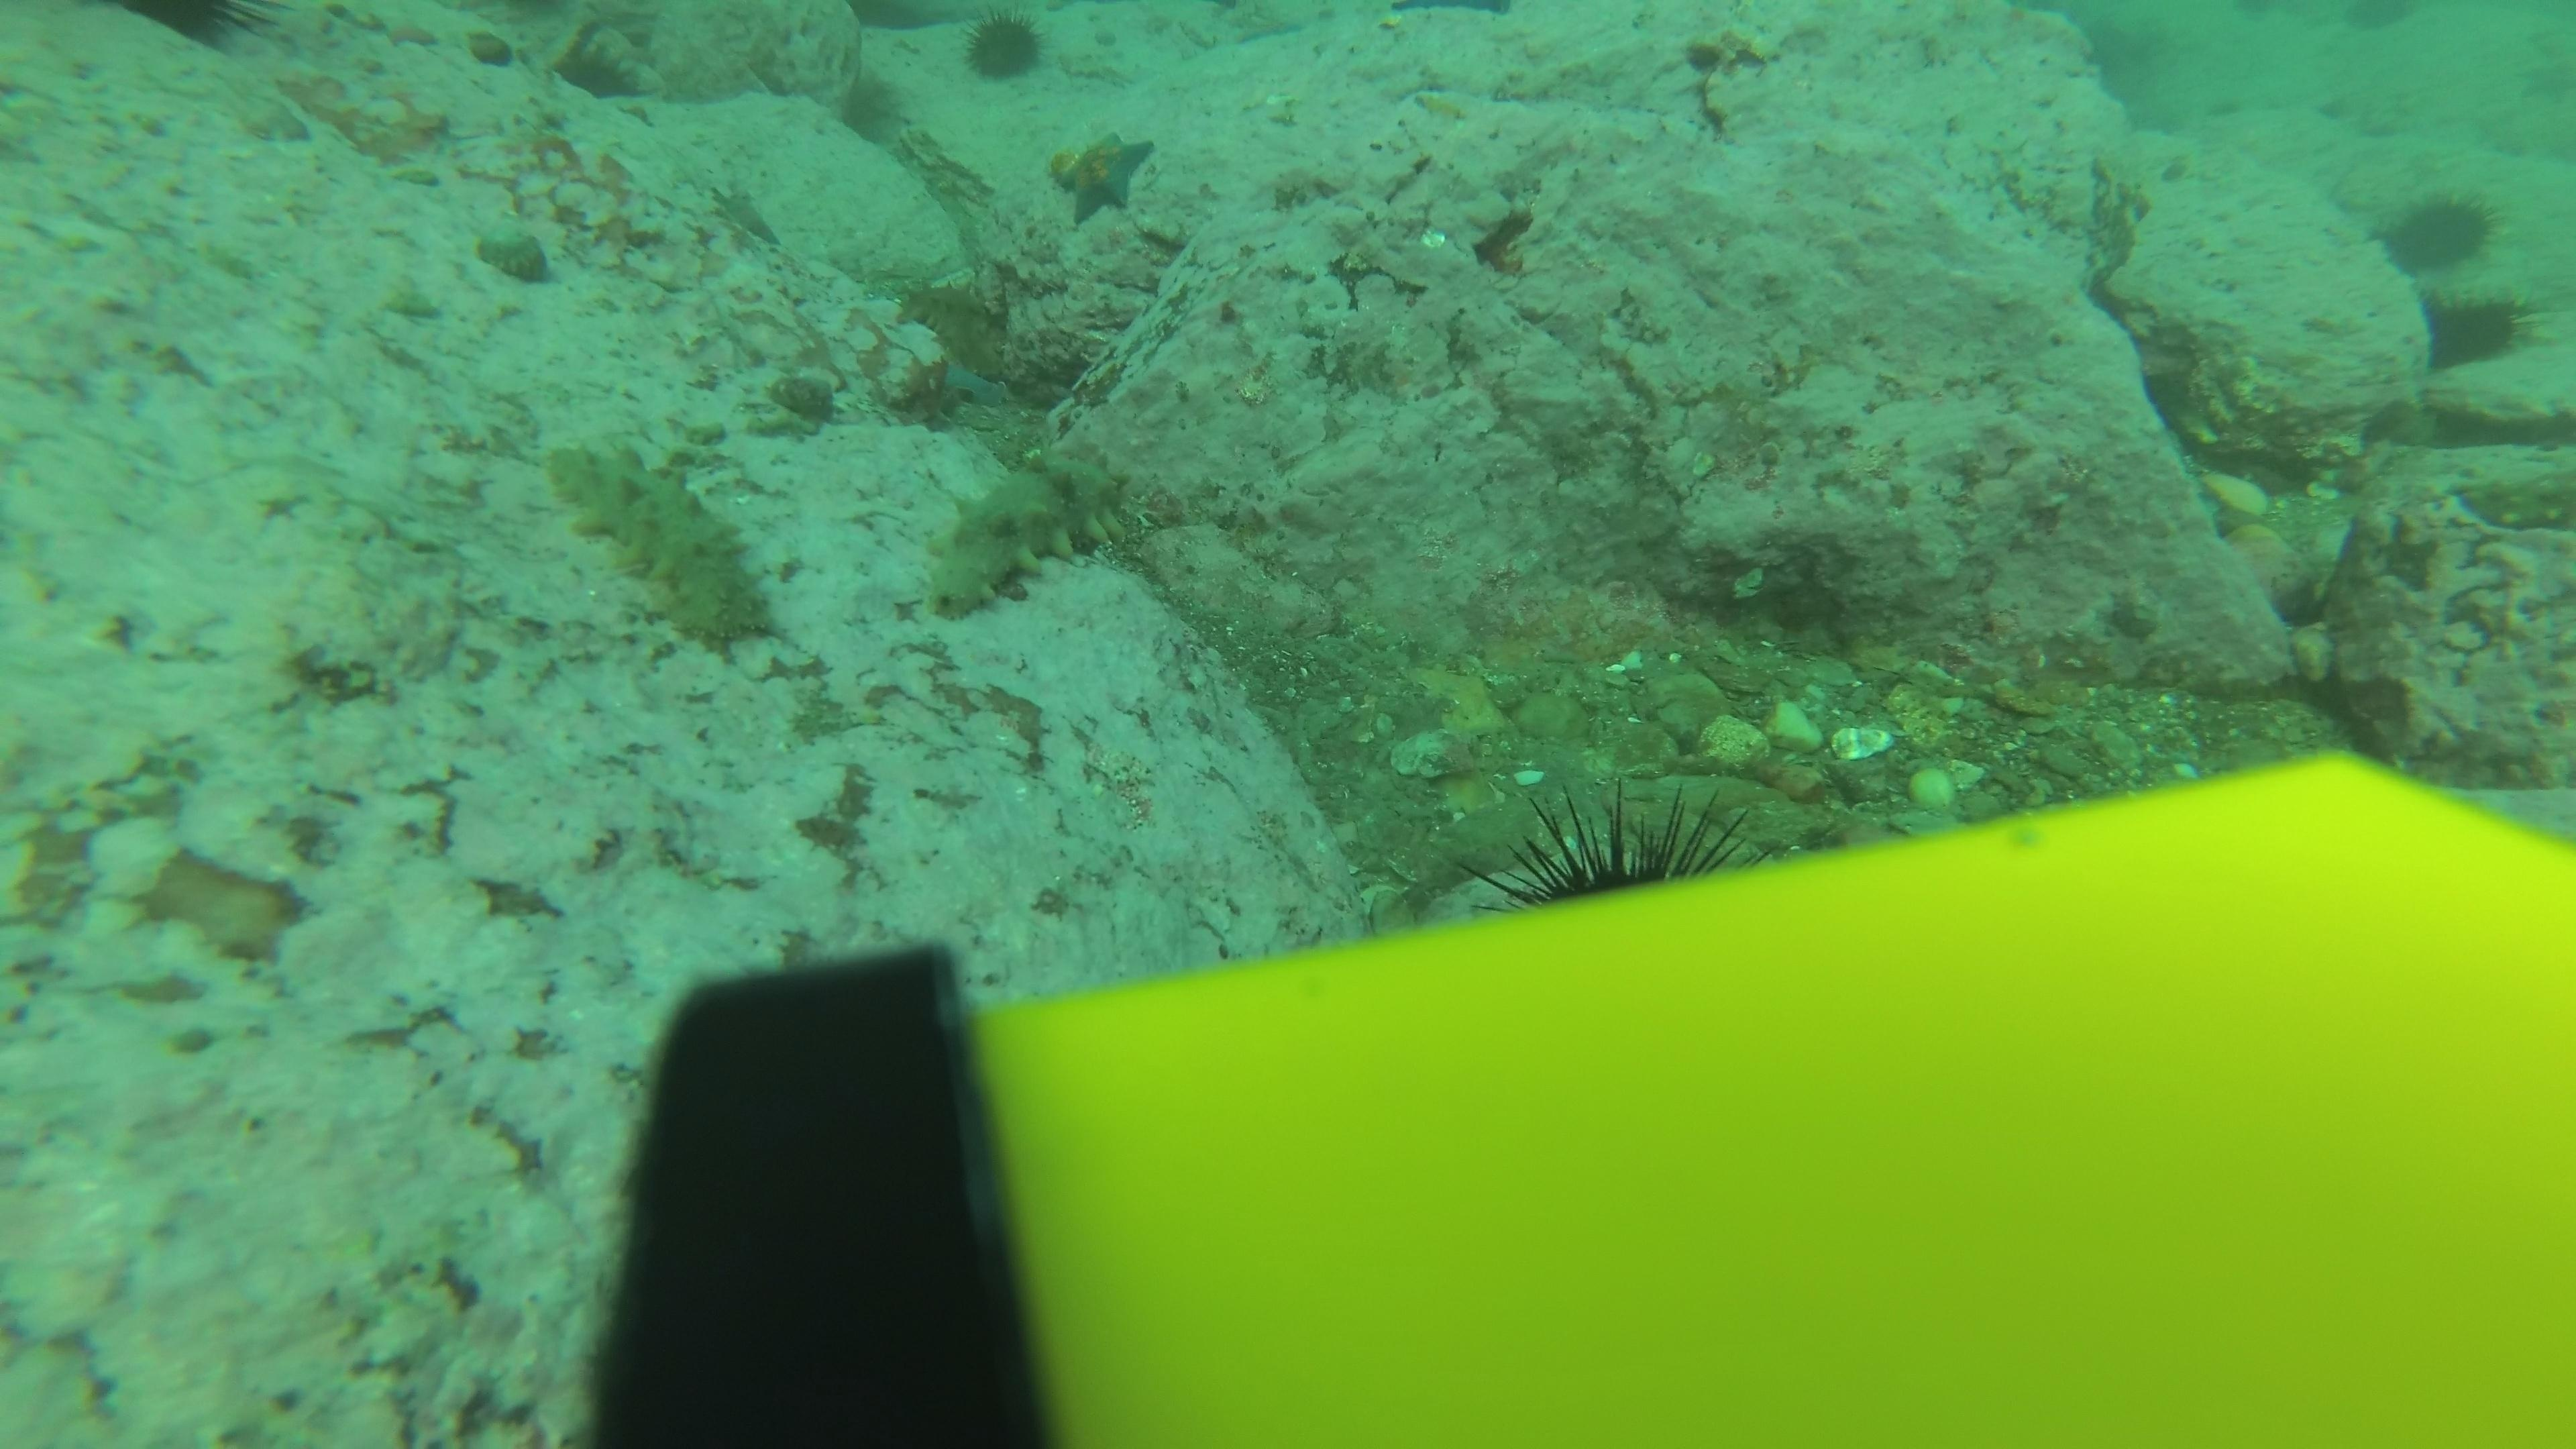echinus: (1479, 782, 1766, 913), (2374, 184, 2500, 280), (2417, 283, 2534, 375), (111, 0, 271, 57), (957, 7, 1053, 87)
holothurian: (540, 430, 775, 656), (911, 437, 1145, 623)
starfish: (1047, 126, 1159, 225), (706, 179, 782, 249), (932, 350, 1019, 412)
